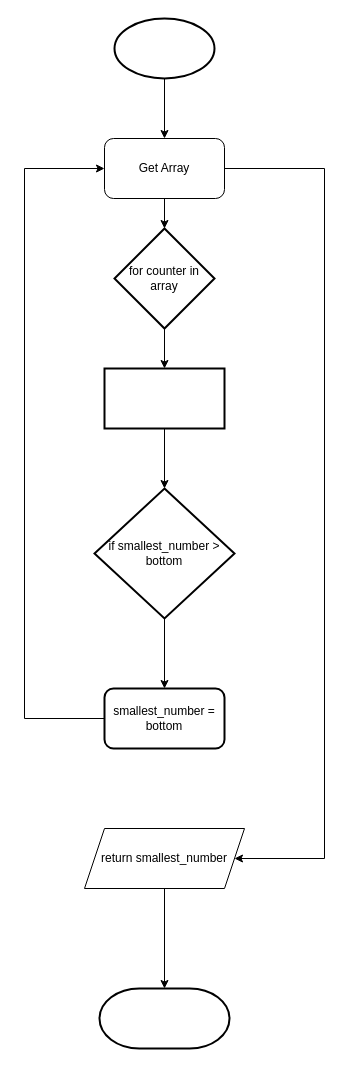
Some shapes in this 350 by 1066 pixel diagram are drawn without their labels. The centre of each missing label's shape, as x and y in pixels:
"bottom = array[counter]" goes at point 164,398.
"Start" goes at point 164,48.
"Stop" goes at point 164,1018.
